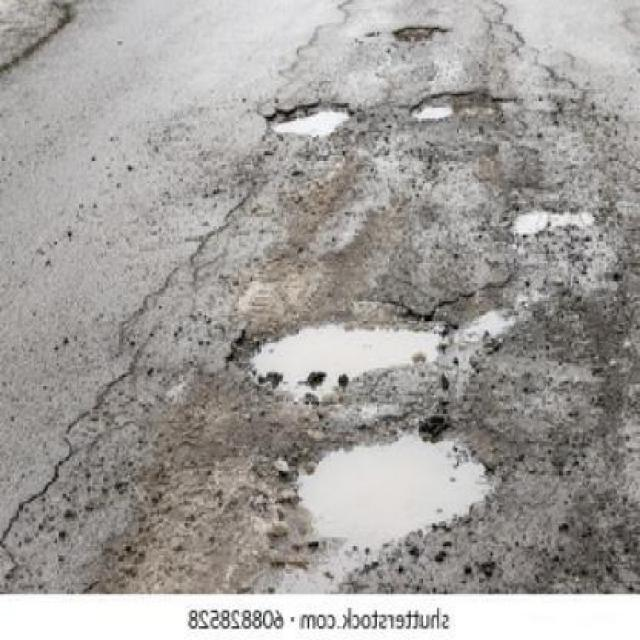pothole: (290, 425, 507, 556), (242, 313, 453, 402), (265, 98, 354, 140), (410, 89, 513, 122), (391, 23, 448, 43)
